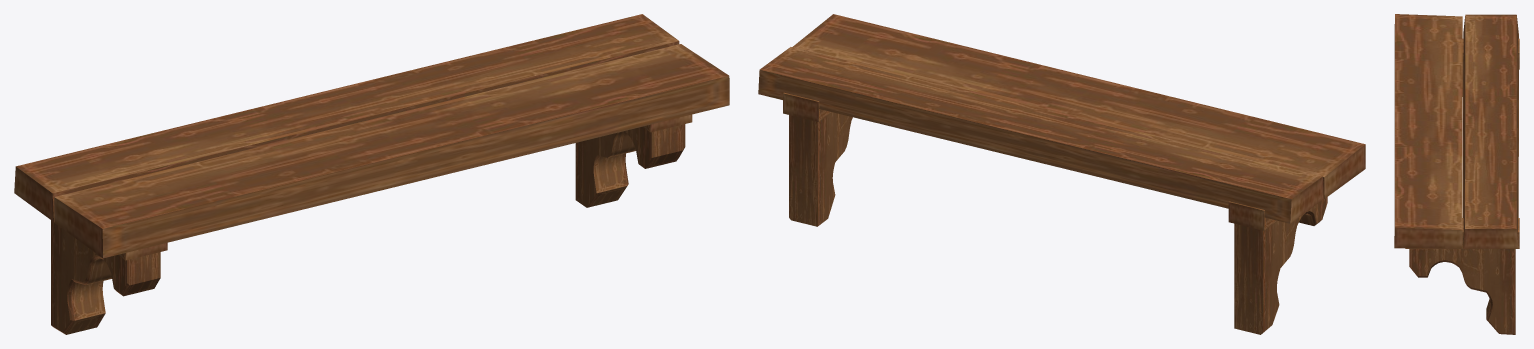
File: shelf.glb
3 renders of one model, left to right at view 1: azimuth 30°, elevation 25°; view 2: azimuth 150°, elevation 25°; view 3: azimuth 270°, elevation 25°, orthographic. The views are drawn at different scales.
Parts seen in each view (by area): view 1: Shelf_Simple; view 2: Shelf_Simple; view 3: Shelf_Simple.
Part boxes in pixels (x1,y1,x2,y2): Shelf_Simple: (14,14,729,334); Shelf_Simple: (758,14,1365,334); Shelf_Simple: (1394,14,1519,334).
Size of the model in its own units: 1.18 by 0.3087 by 0.2922.
1 material, 1 textured.
